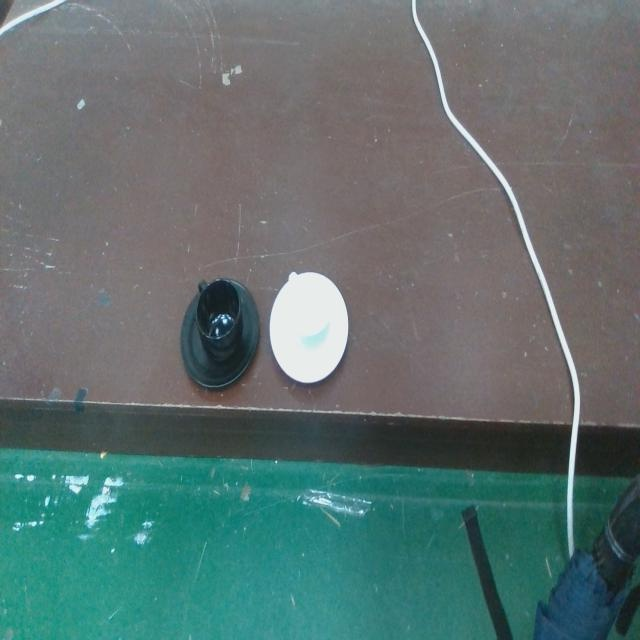black: (178, 271, 262, 394)
white: (268, 267, 350, 392)
